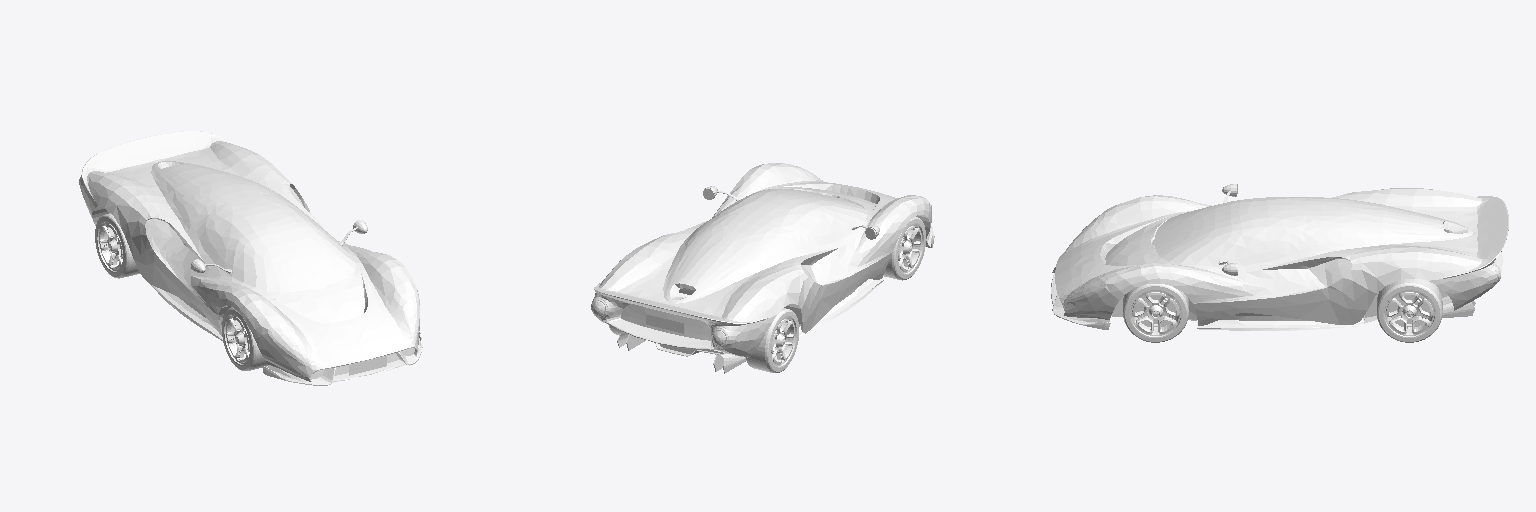
The model's file is De_Tomaso_P72_2020.obj.
3 renders of one model, left to right at view 1: azimuth 30°, elevation 25°; view 2: azimuth 150°, elevation 25°; view 3: azimuth 270°, elevation 25°, orthographic.
Parts seen in each view (by area): view 1: s_0070, Object016; view 2: s_0070, Object016; view 3: s_0070, Object016.
Boxes of the visible parts, box(x1,y1,x2,y2) form: s_0070: box(79, 131, 422, 385); Object016: box(154, 161, 419, 366); s_0070: box(591, 163, 934, 373); Object016: box(591, 189, 931, 346); s_0070: box(1051, 184, 1508, 342); Object016: box(1067, 197, 1498, 301).
Bounding box in the file's own units: 2075 × 1108 × 4739.